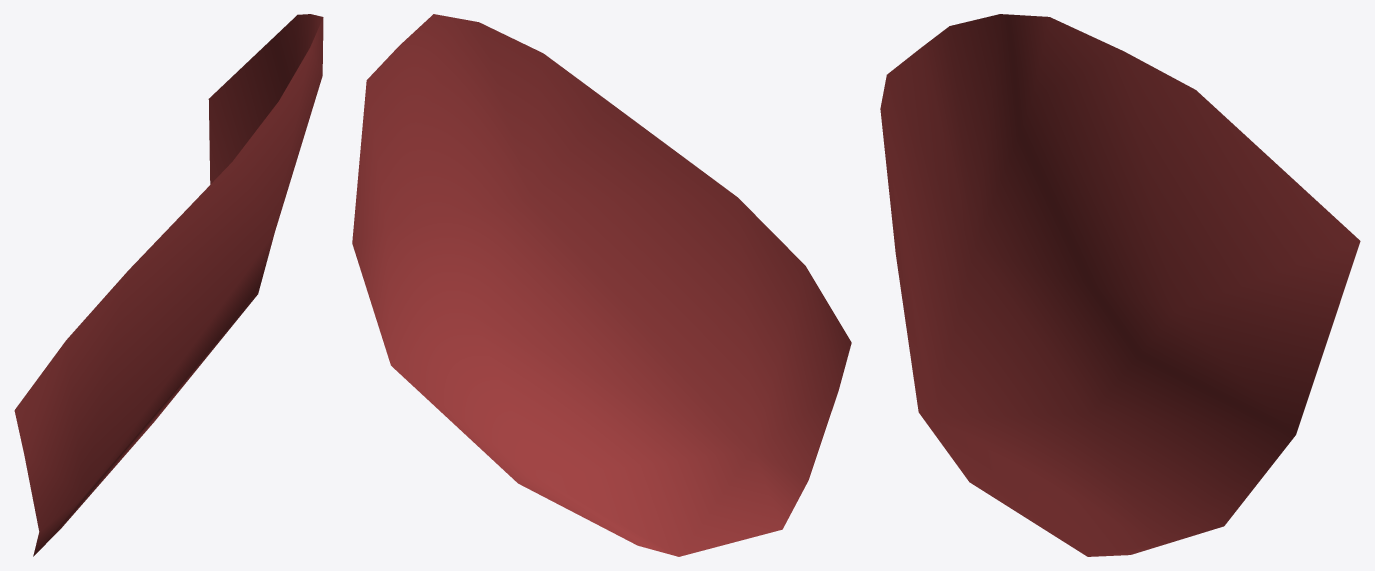
The model's file is scalenus-medius-muscle-e1r.glb.
3 views of the same model, side by side, from view 1: azimuth 30°, elevation 25°; view 2: azimuth 150°, elevation 25°; view 3: azimuth 270°, elevation 25° (orthographic). The views are drawn at different scales.
Parts seen in each view (by area): view 1: Scalenus medius muscle.e1r; view 2: Scalenus medius muscle.e1r; view 3: Scalenus medius muscle.e1r.
Boxes of the visible parts, <box> form: Scalenus medius muscle.e1r: <box>14,14,323,556</box>; Scalenus medius muscle.e1r: <box>352,14,851,556</box>; Scalenus medius muscle.e1r: <box>880,14,1360,556</box>.
Bounding box in the file's own units: 0.00448 × 0.0052 × 0.00307.
